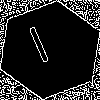I: (25, 25, 57, 73)
